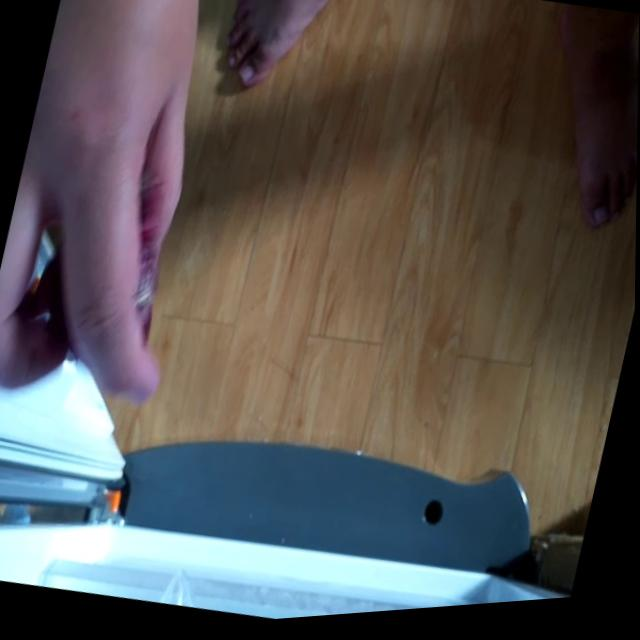onion: (37, 184, 204, 382)
